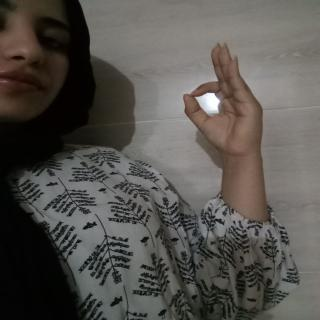Space: (178, 34, 268, 164)
